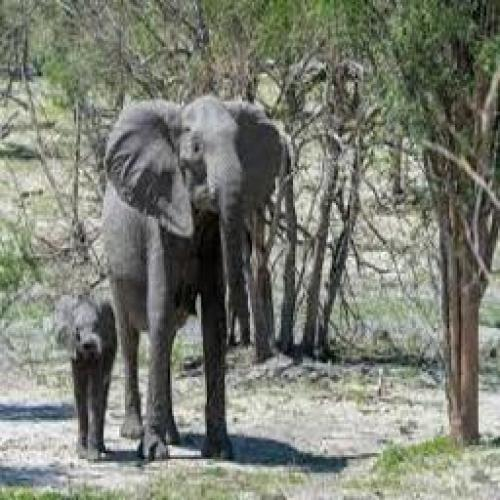african_elephant-endangered: (105, 95, 288, 465), (62, 297, 125, 469)
